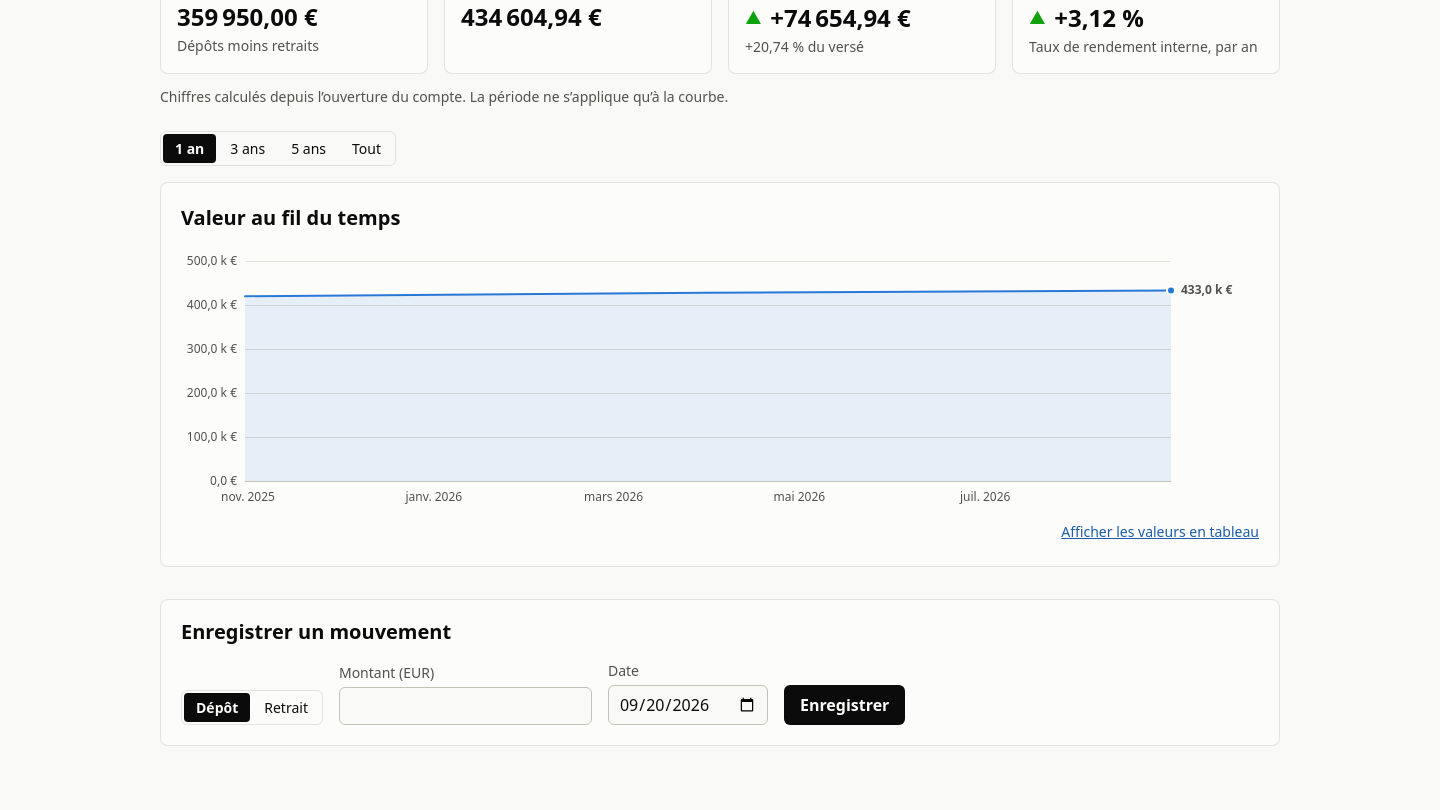
Test: Account page › records a deposit and refreshes the figures
This screenshot has width=1440, height=810.
(page scrolled)
Type "100,50" into the field labelled "Montant (EUR)". click: (465, 706)
box: x1=339 y1=686 x2=592 y2=724
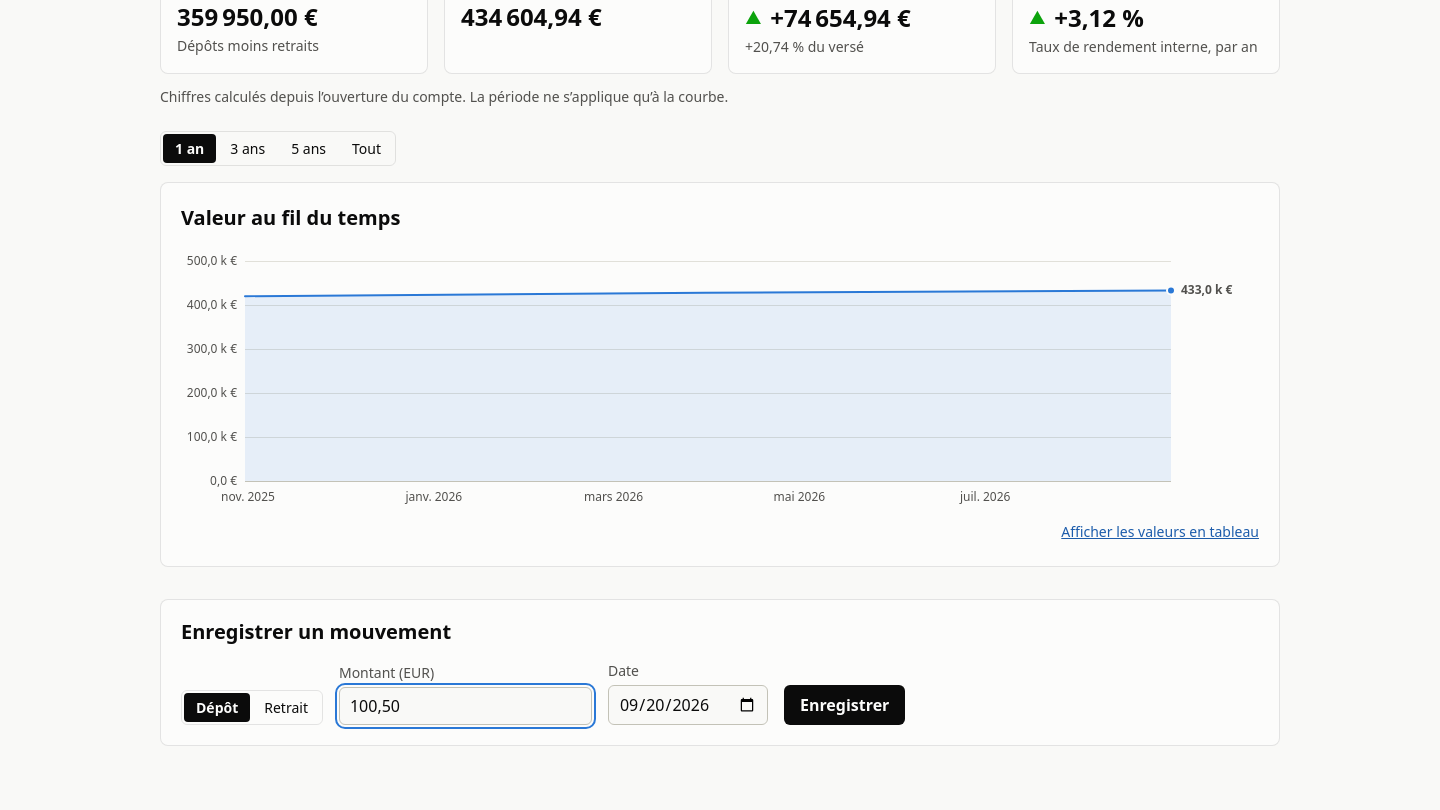
Click the button "Enregistrer". click: (845, 704)
box: x1=784 y1=684 x2=905 y2=724
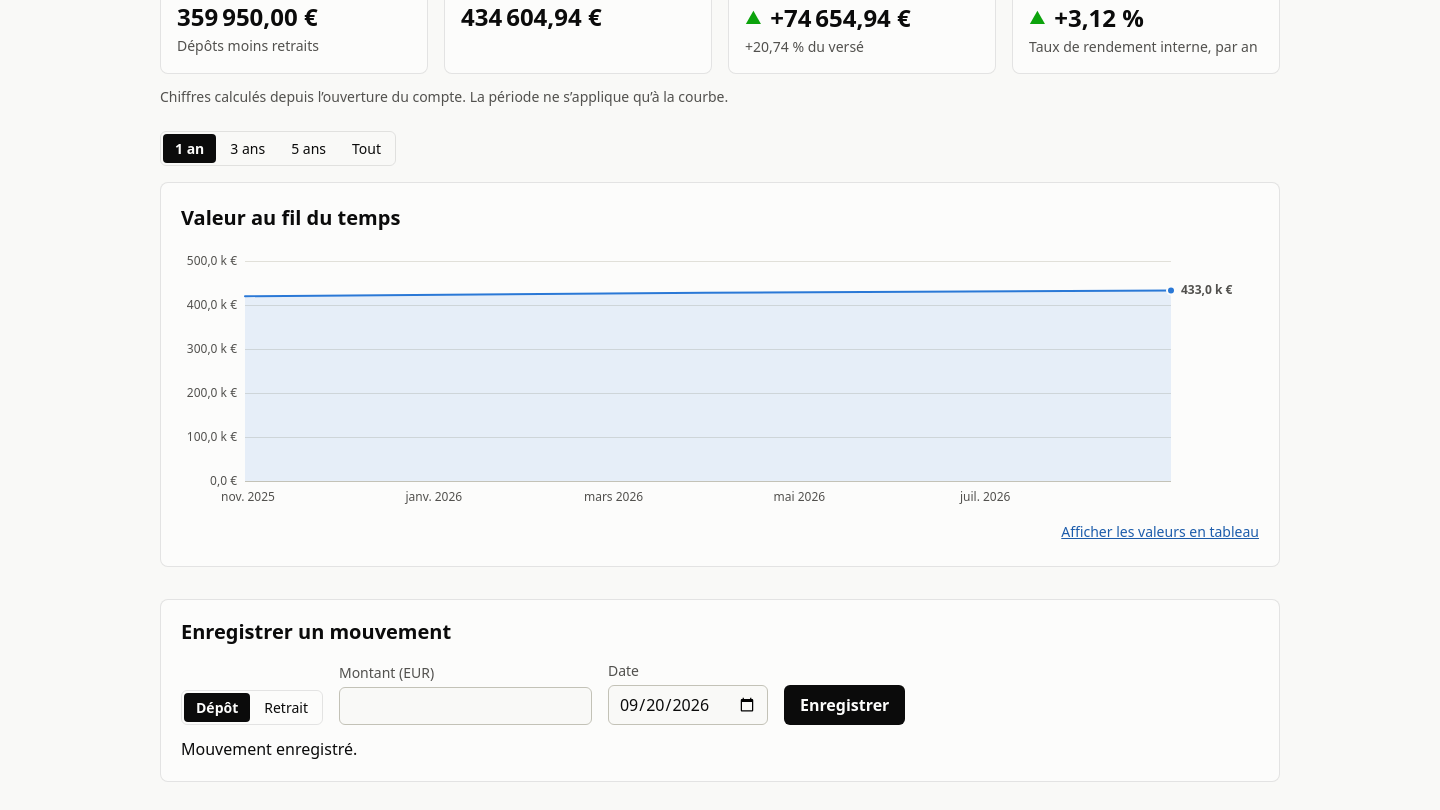
Check: the text "Mouvement enregistré." is shown, box x1=181 y1=738 x2=357 y2=760
